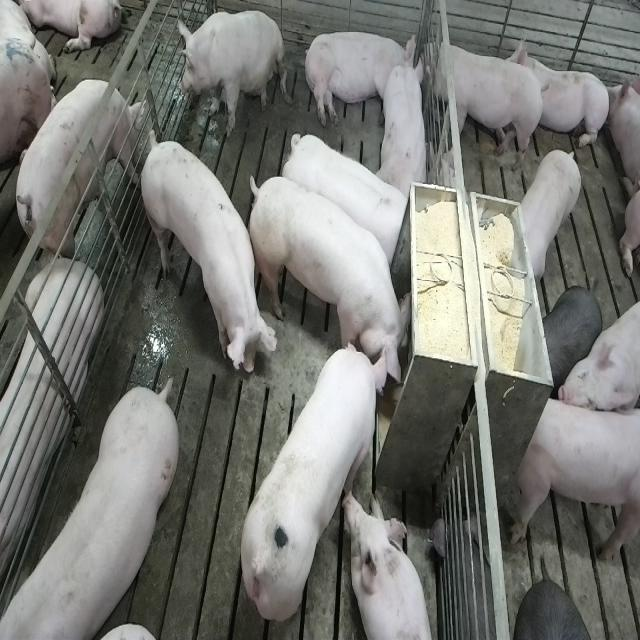Feeding: (238, 339, 392, 624), (252, 173, 418, 392)
Lateral_lying: (302, 28, 418, 129)
Sitting: (178, 8, 285, 138)
Standing: (0, 381, 176, 639), (137, 132, 274, 385), (9, 79, 139, 266), (511, 392, 638, 567), (282, 128, 411, 264), (423, 33, 546, 174), (514, 144, 584, 283)
Sternal_lying: (0, 258, 101, 610), (346, 491, 436, 640), (514, 32, 612, 156), (380, 48, 432, 202)
